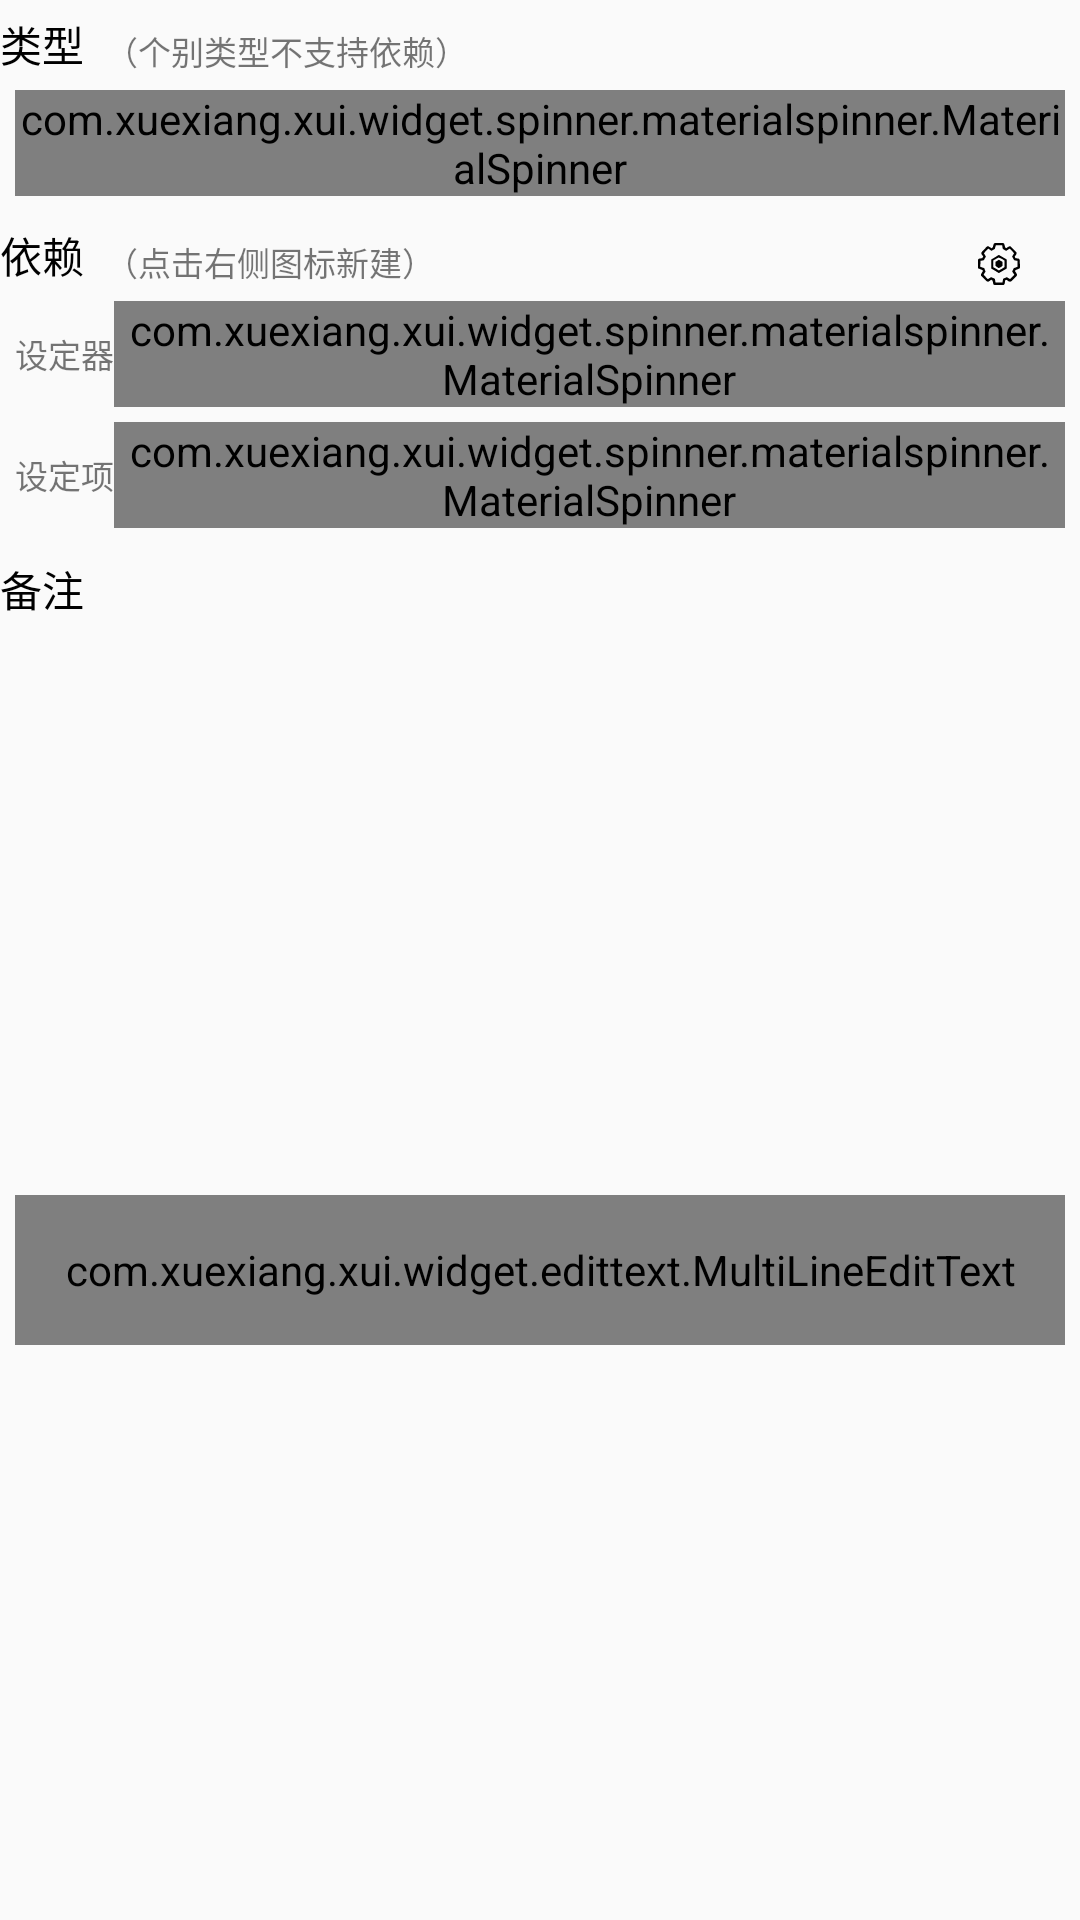

Named icons in this screenshot (1080 × 1920) and their bounding boxes, (left=x1, top=y1, right=x2, bottom=y2):
setting: (left=978, top=243, right=1020, bottom=285)
